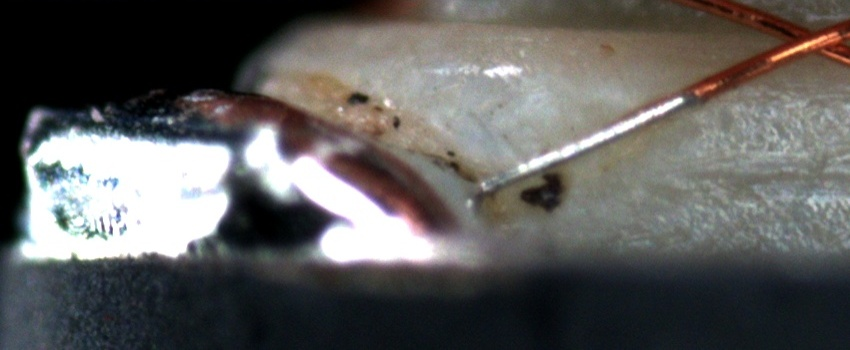CL: (760, 14, 846, 68)
DL: (642, 141, 850, 205), (652, 77, 850, 117)
TS: (479, 89, 695, 194)
